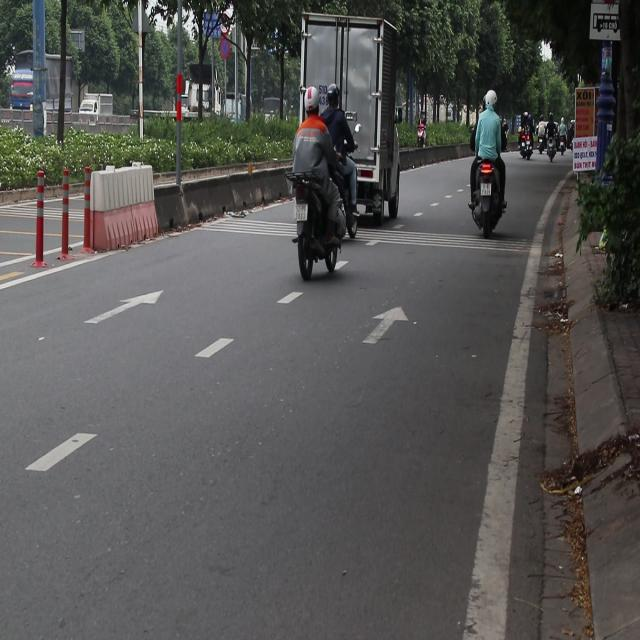motorbike: (290, 173, 346, 278), (469, 156, 507, 238), (539, 120, 559, 158), (545, 131, 566, 161), (418, 117, 428, 156), (519, 131, 532, 159)
truck: (300, 15, 398, 220), (76, 96, 114, 126)
